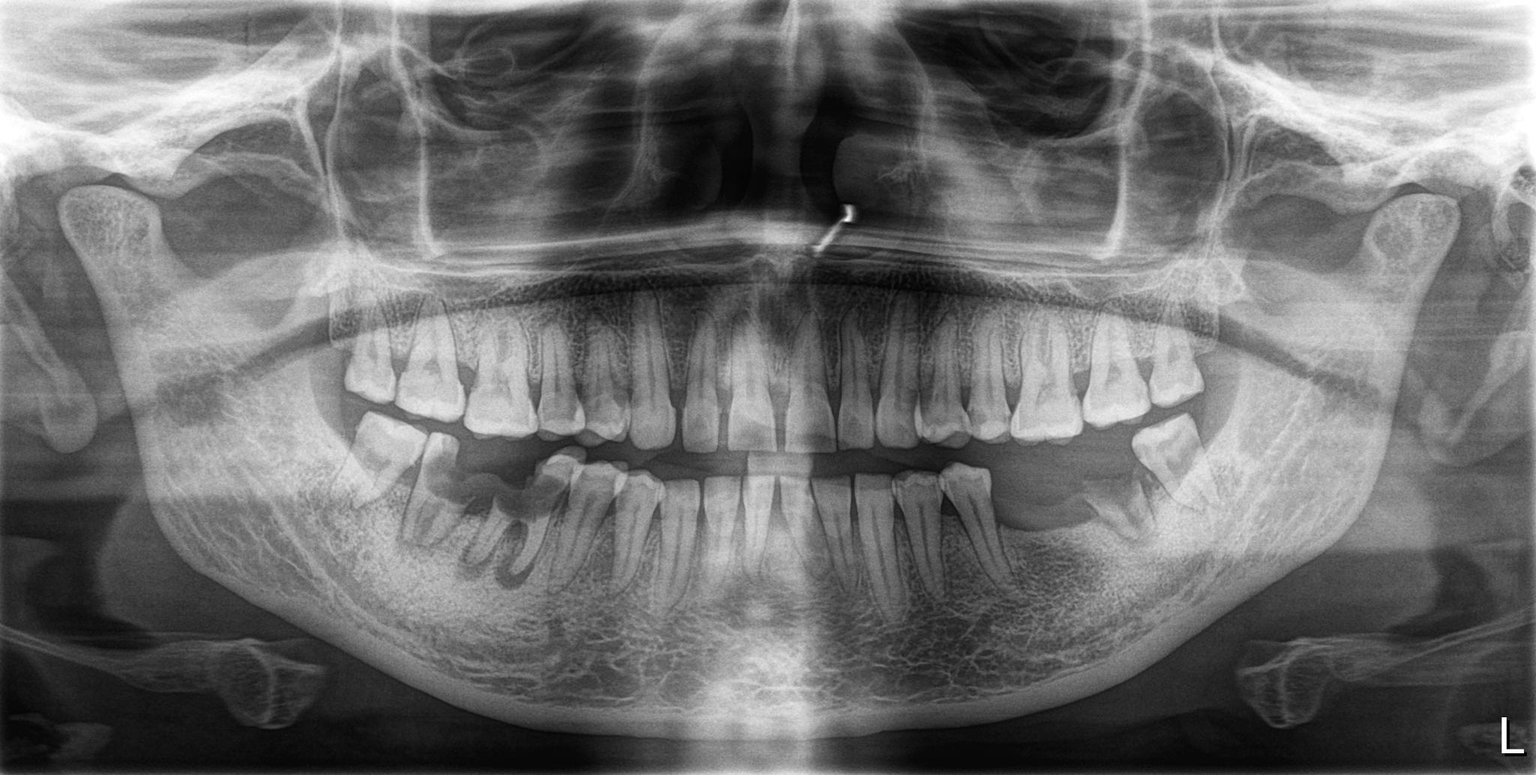Dental Caries: (416, 455, 575, 528)
Missing Tooth: (998, 453, 1066, 596)
Periapical Lesion: (448, 530, 566, 596)
Retained Root: (1071, 453, 1157, 560)
